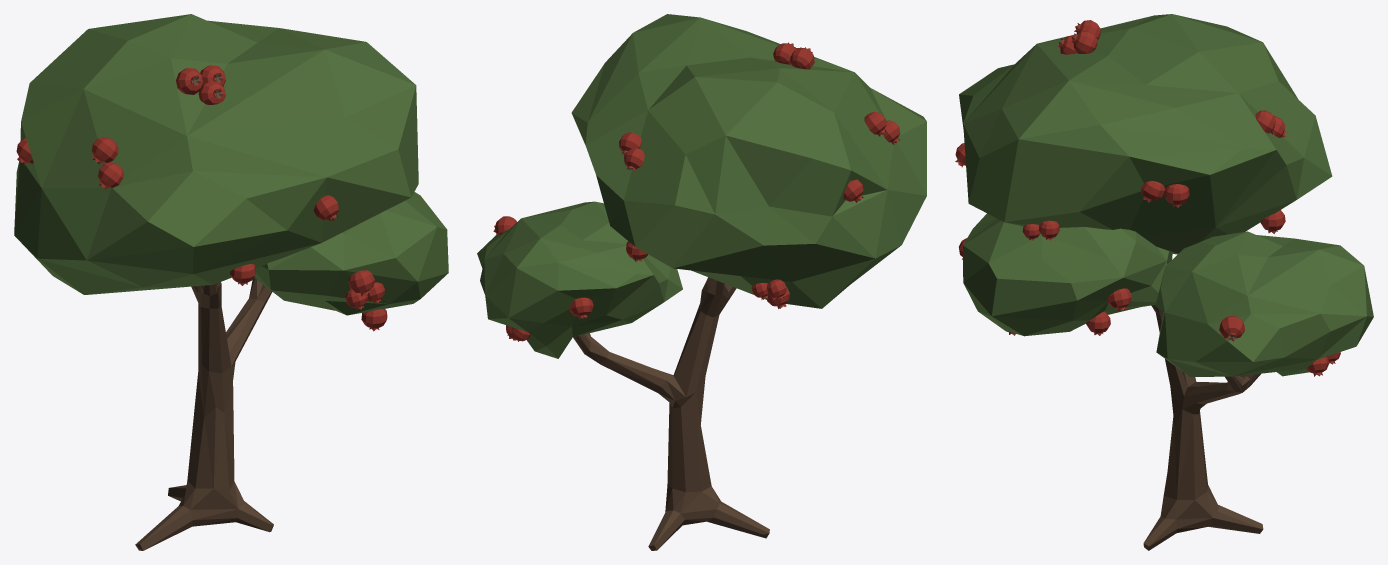
Rendered from SM_Envr_Nature_Farm_Tree_Pomegranate_Mature.fbx.
3 renders of one model, left to right at view 1: azimuth 30°, elevation 25°; view 2: azimuth 150°, elevation 25°; view 3: azimuth 270°, elevation 25°, orthographic. The views are drawn at different scales.
Parts seen in each view (by area): view 1: SM_Envr_Nature_Farm_Tree_Pomegranate_Mature; view 2: SM_Envr_Nature_Farm_Tree_Pomegranate_Mature; view 3: SM_Envr_Nature_Farm_Tree_Pomegranate_Mature.
Boxes of the visible parts, left/top/right/bottom form: SM_Envr_Nature_Farm_Tree_Pomegranate_Mature: left=14, top=14, right=448, bottom=550; SM_Envr_Nature_Farm_Tree_Pomegranate_Mature: left=477, top=14, right=926, bottom=550; SM_Envr_Nature_Farm_Tree_Pomegranate_Mature: left=955, top=14, right=1373, bottom=550.
Size of the model in its own units: 660 by 794 by 631.
